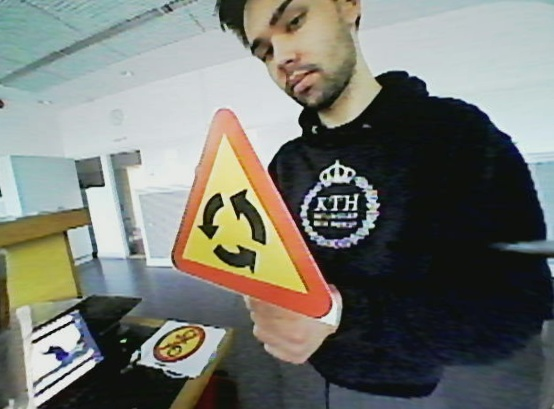roundabout_warning: (167, 103, 340, 334)
